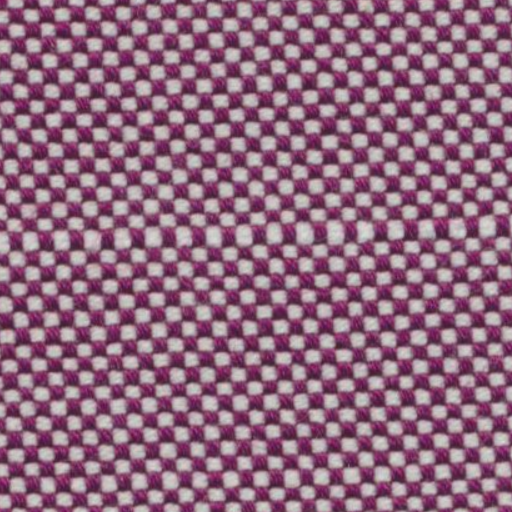TuoSha: (14, 198, 498, 266)
